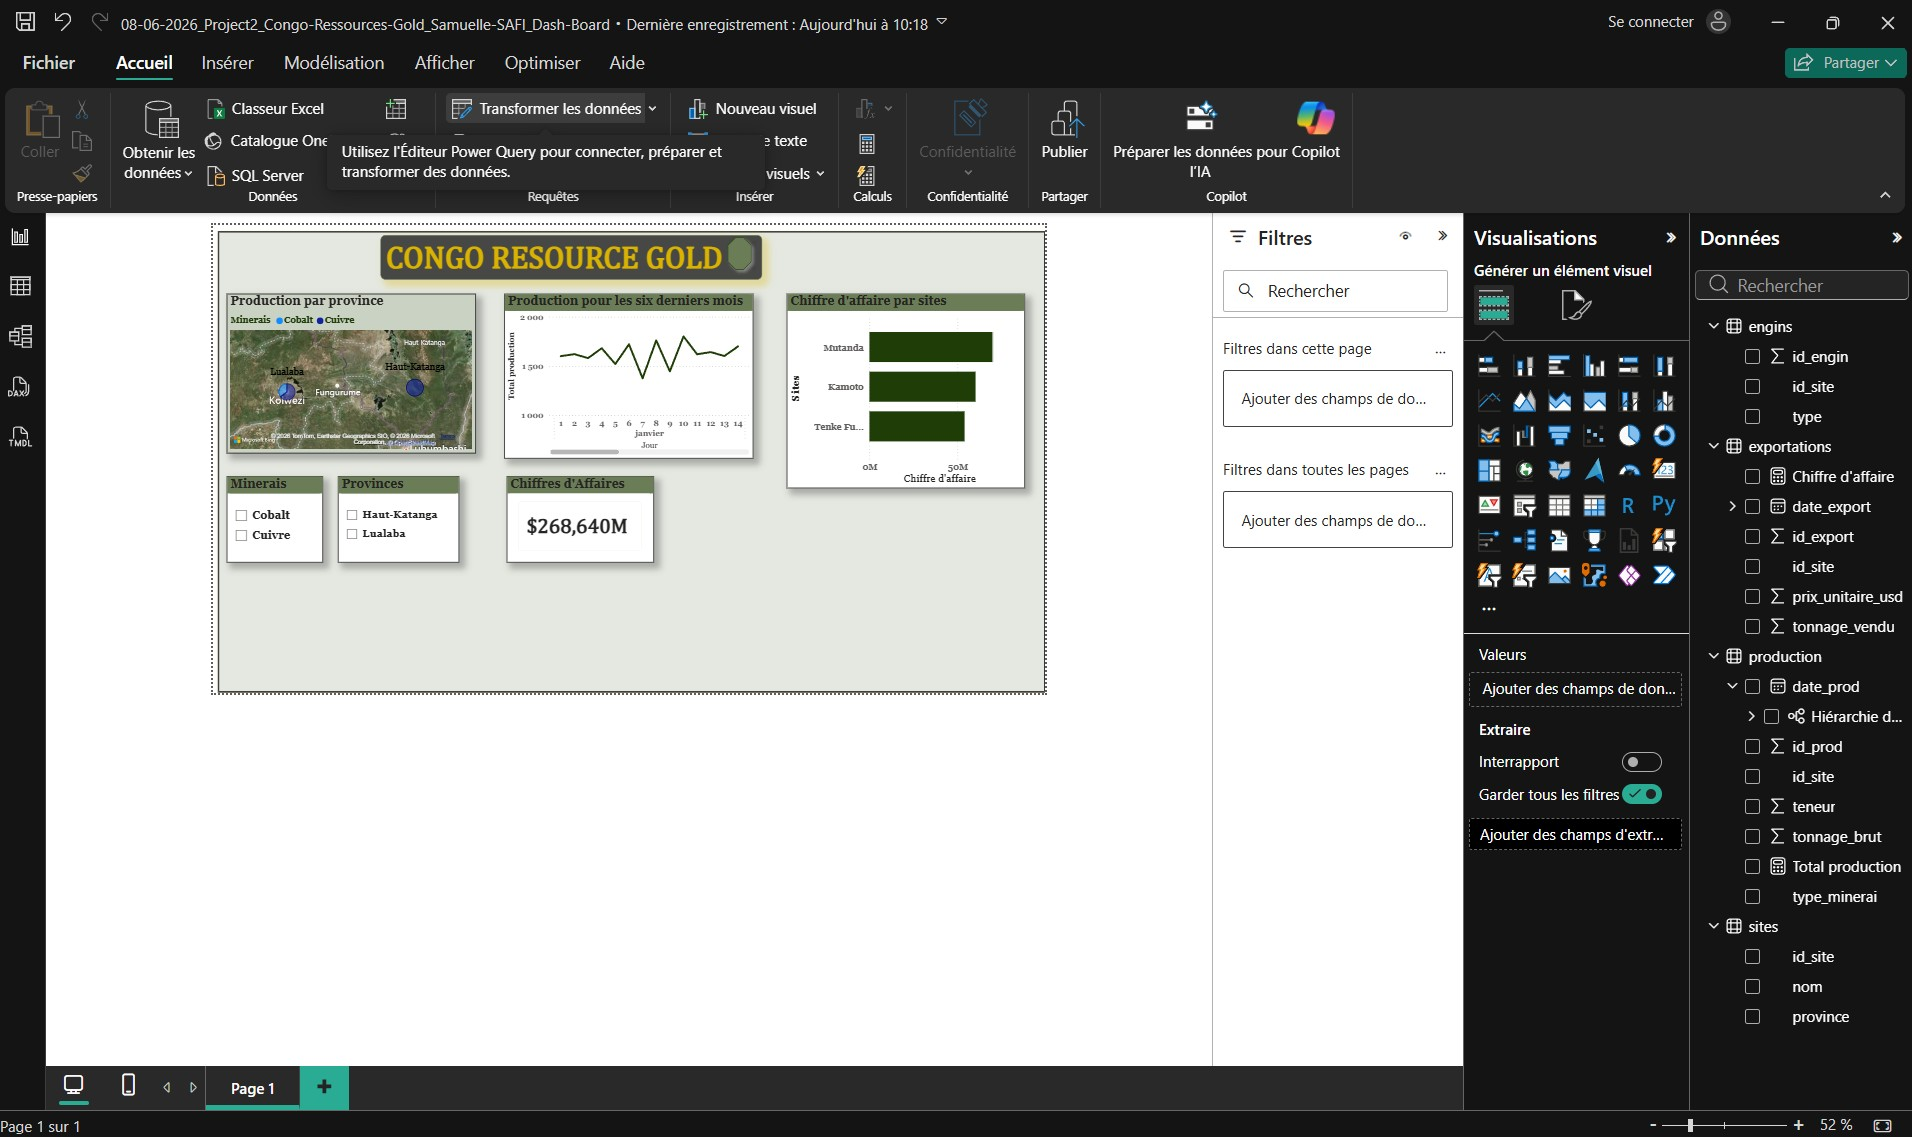

What the dashboard file says about the page in this screenshot:
{"tool":"powerbi","page":{"name":"Page 1","canvas":[1280,720],"ordinal":0},"visuals":[{"type":"shape","box":[7.7,9.6,1273.1,709.6],"z":0},{"type":"textbox","box":[258,15.1,587.3,68.6],"z":1000},{"type":"shape","box":[782.2,9.6,54.9,68.6],"z":2000},{"type":"map","title":"Production par province","fields":{"Category":["sites.province"],"Size":["Sum(production.tonnage_brut)"],"Series":["production.type_minerai"]},"box":[20.6,105.7,382.8,245.6],"z":3000},{"type":"lineChart","title":"Production pour les six derniers mois ","fields":{"Y":["production.Total production"],"Category":["production.date_prod.Variation.Hiérarchie de dates.Mois","production.date_prod.Variation.Hiérarchie de dates.Jour"]},"box":[447.3,105.7,382.8,253.9],"z":4000},{"type":"clusteredBarChart","title":"Chiffre d''affaire par sites","fields":{"Category":["sites.nom"],"Y":["exportations.Chiffre d'affaire"]},"box":[882.3,105.7,366.4,299.1],"z":5000},{"type":"slicer","title":"Minerais","fields":{"Values":["production.type_minerai"]},"box":[20.6,385.6,148.2,133.1],"z":6000},{"type":"slicer","title":"Provinces","fields":{"Values":["sites.province"]},"box":[192.1,385.6,186.6,133.1],"z":7000},{"type":"cardVisual","title":"Chiffres d''Affaires","fields":{"Data":["exportations.Chiffre d'affaire"]},"box":[452.8,385.6,226.4,133.1],"z":8000}]}

Visuals, with their boxes on the page's 1280x720 design canvas (x1, y1, x2, y2). These are canvas units, not pixel positions in the 1912x1137 screenshot, which may show the page scaled, cropped or inside an application window:
shape: [left=8, top=10, right=1281, bottom=719]
textbox: [left=258, top=15, right=845, bottom=84]
shape: [left=782, top=10, right=837, bottom=78]
"Production par province" map: [left=21, top=106, right=403, bottom=351]
"Production pour les six derniers mois " lineChart: [left=447, top=106, right=830, bottom=360]
"Chiffre d''affaire par sites" clusteredBarChart: [left=882, top=106, right=1249, bottom=405]
"Minerais" slicer: [left=21, top=386, right=169, bottom=519]
"Provinces" slicer: [left=192, top=386, right=379, bottom=519]
"Chiffres d''Affaires" cardVisual: [left=453, top=386, right=679, bottom=519]
